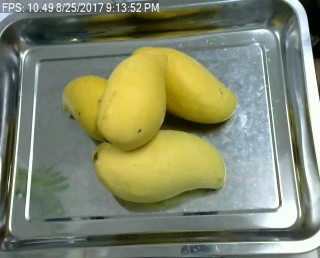Mango: (92, 132, 227, 205), (134, 45, 237, 125), (95, 52, 170, 148), (60, 73, 123, 145)
